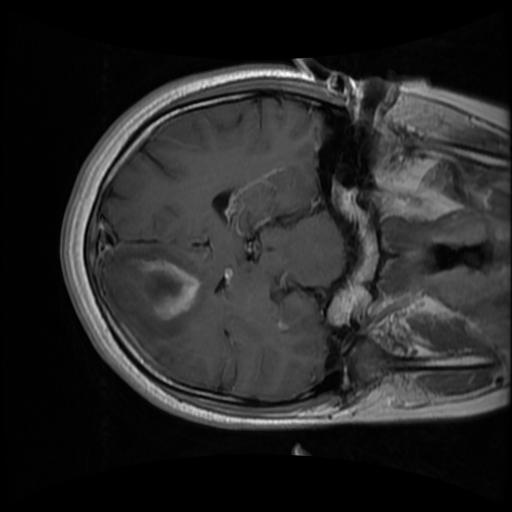glioma: (105, 245, 207, 343)
